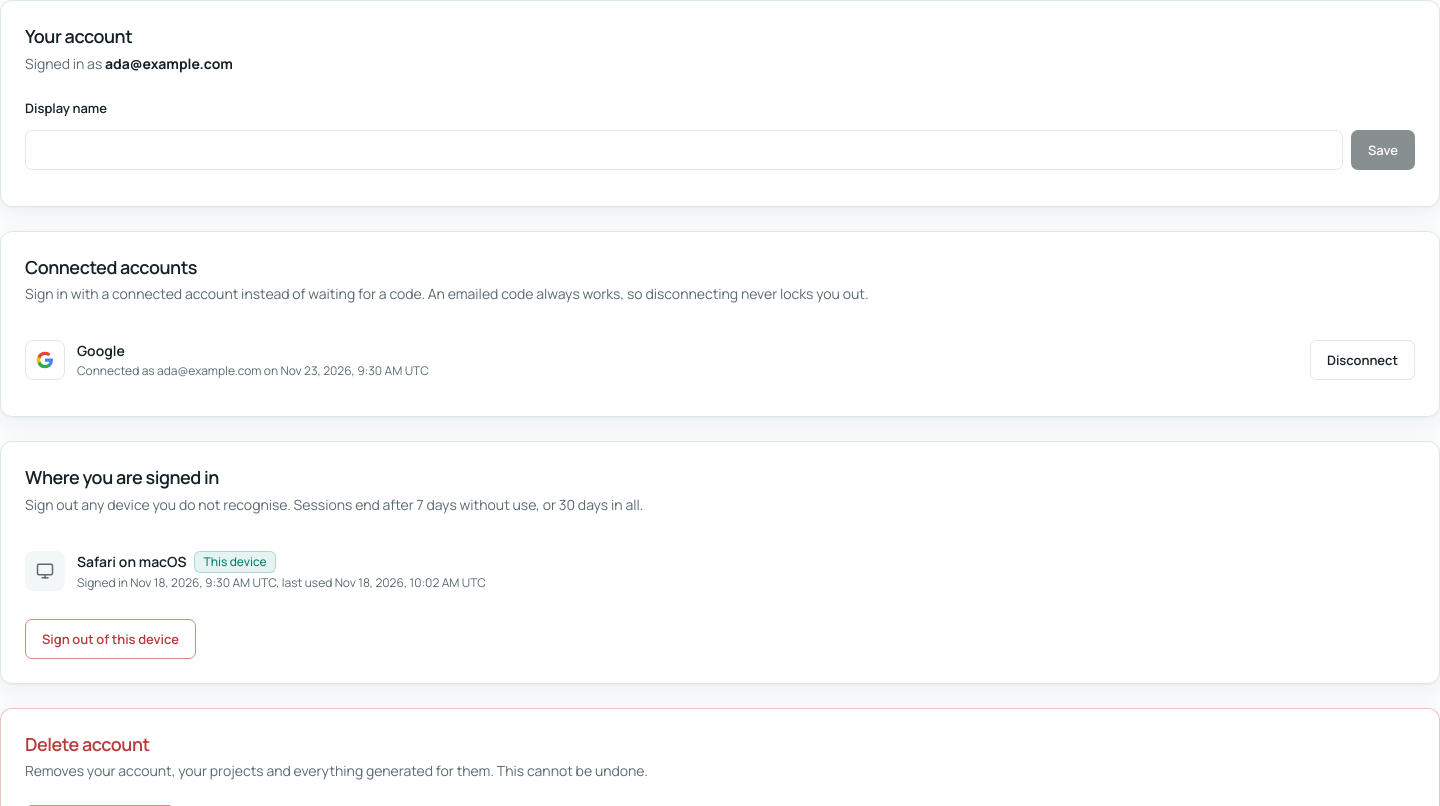
AccountView: connected accounts › disconnects after confirmation and shows the refreshed list
This screenshot has width=1440, height=806.
Click the button with aria-label "Disconnect Google": [1362, 360] box 1310,340 -> 1415,380
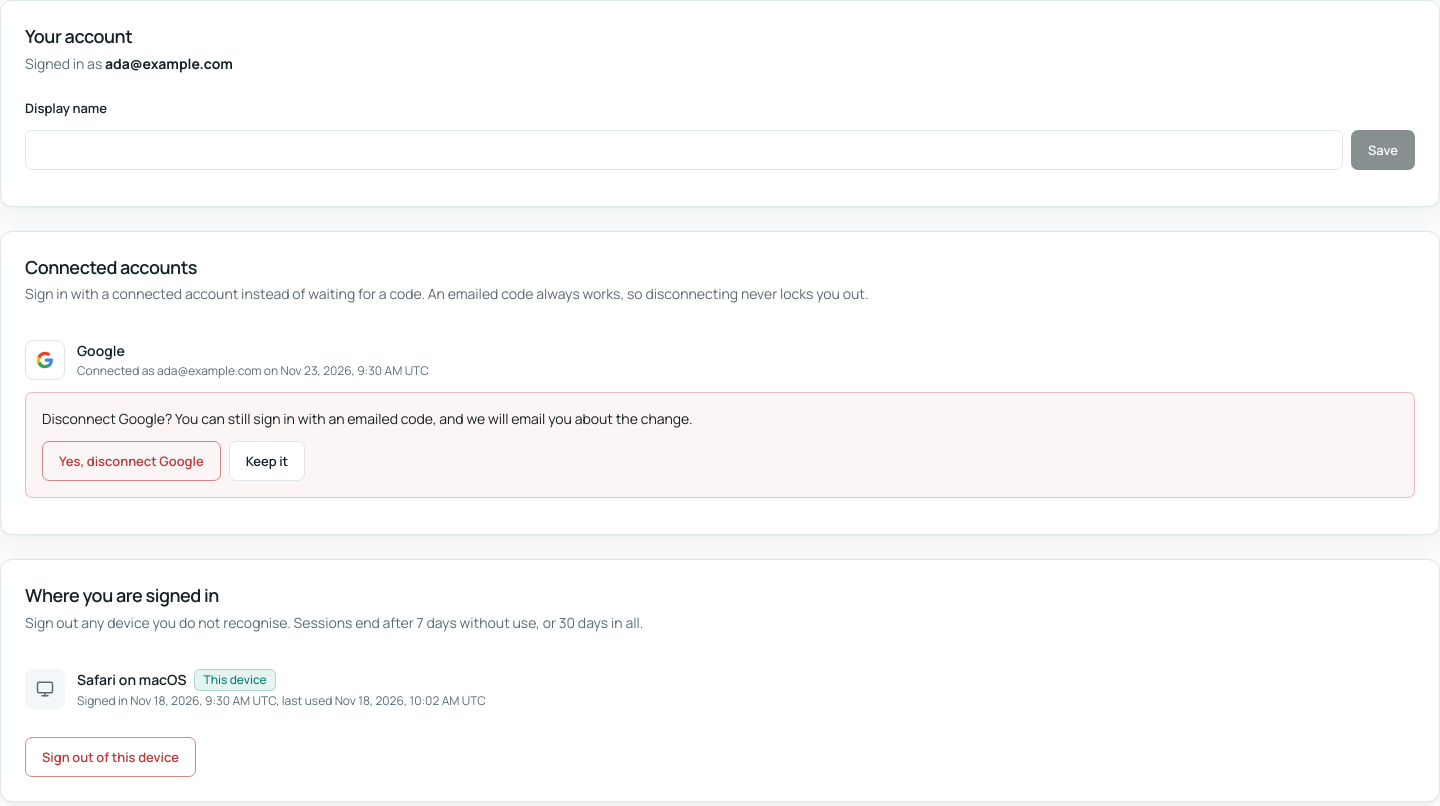
Click the button "Yes, disconnect Google": [131, 461] box 42,441 -> 221,481
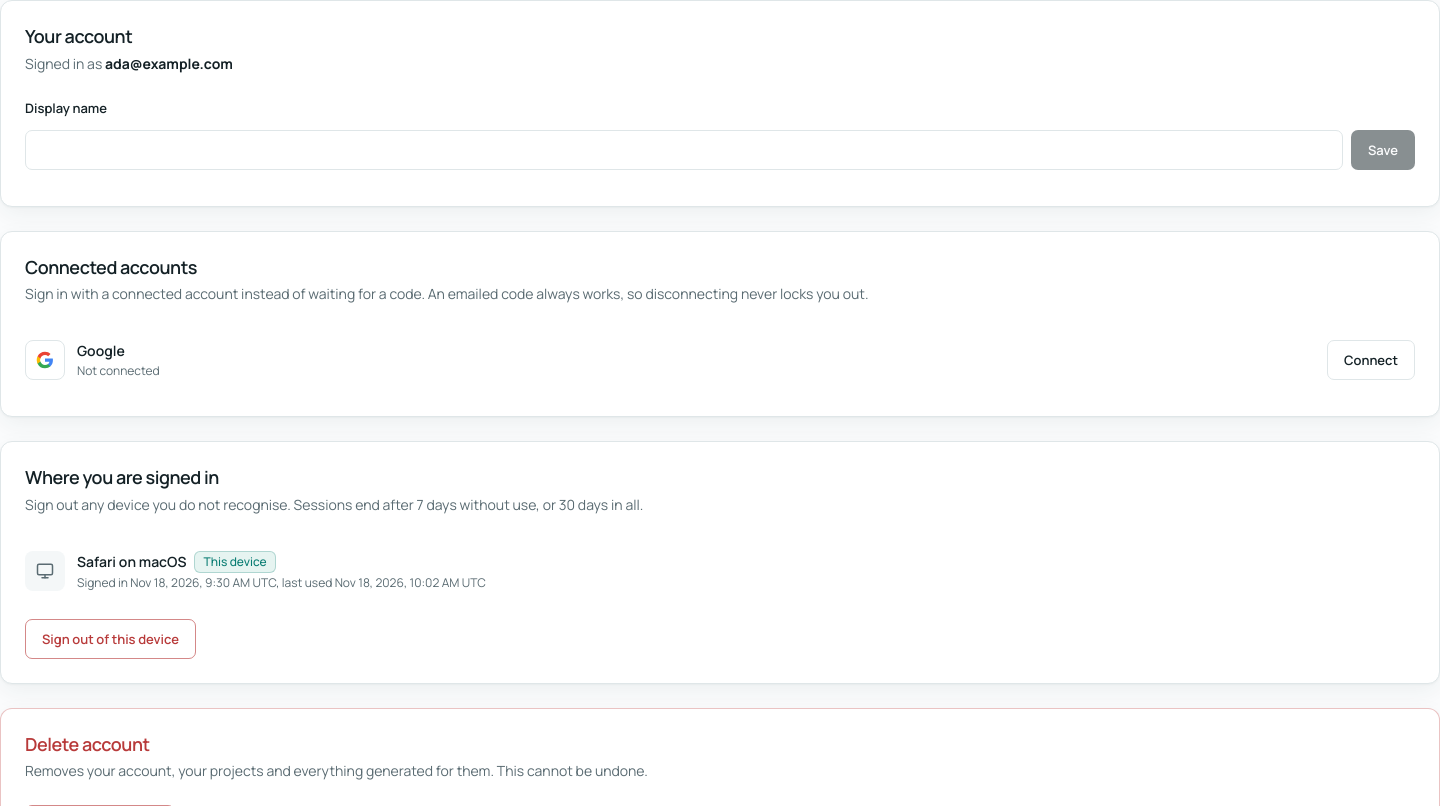
Check: the button with aria-label "Connect Google" is shown, box 1327,340 -> 1415,380
Check: the text "Not connected" is shown, box 77,363 -> 160,379
